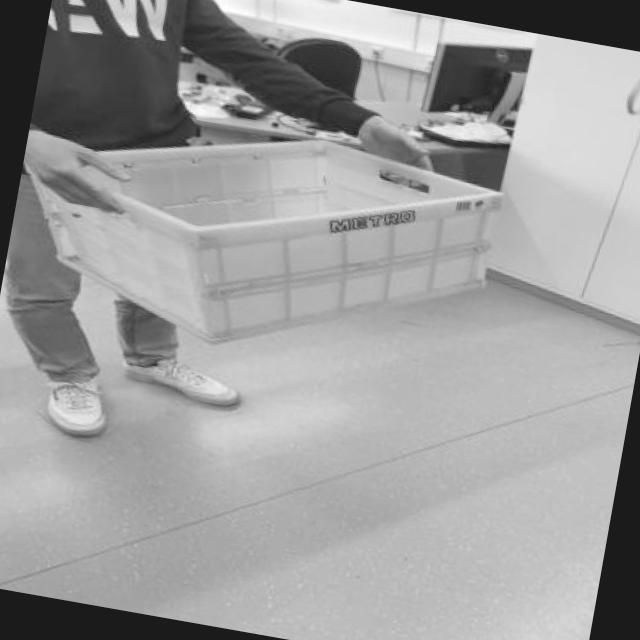box: (8, 90, 551, 402)
